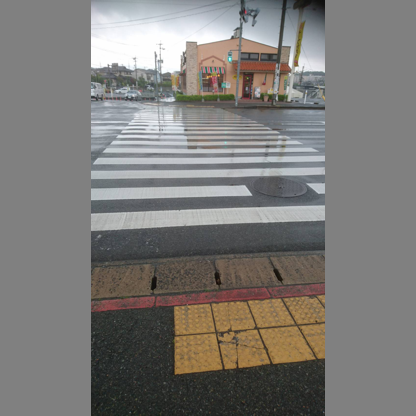brailleblock: (210, 303, 271, 368), (246, 299, 304, 364), (171, 307, 215, 377), (294, 296, 325, 361)
crosswalk: (91, 168, 246, 234), (118, 133, 325, 179), (131, 117, 257, 169)
signal: (228, 50, 232, 63)
